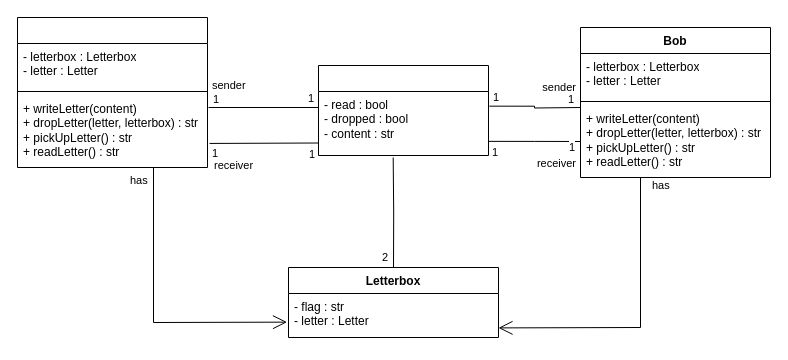
Image size: 788x360. Some labels were removed from this diagram. Here are the shapes that lost their labels. From the top down, the box of each, then its label:
(16, 16, 208, 168): Alice
(318, 64, 488, 156): Letter
